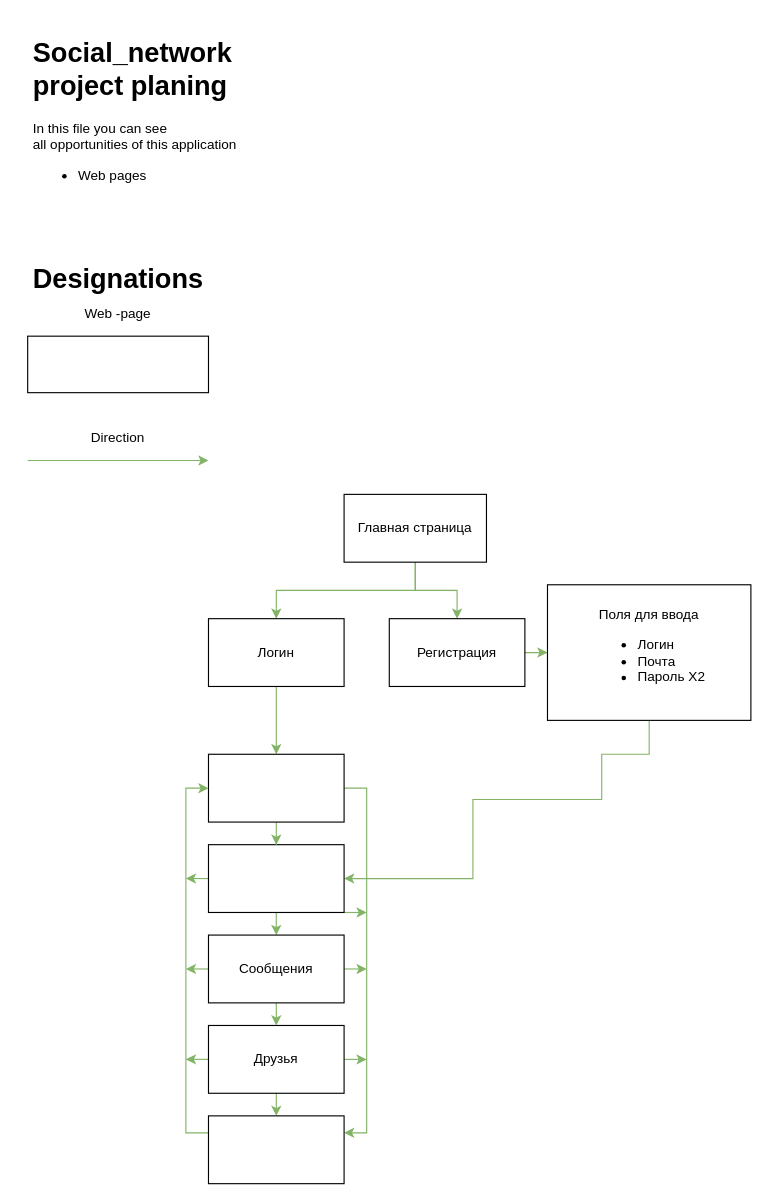
Some shapes in this 771 by 1203 pixel diagram are drawn without their labels. Here are the shapes that lost their labels. From the top down, the box of each, then its label:
(207, 753, 344, 822): Новости
(207, 844, 344, 912): Страница с новосозданным пользователем
(207, 1115, 344, 1184): Группы
